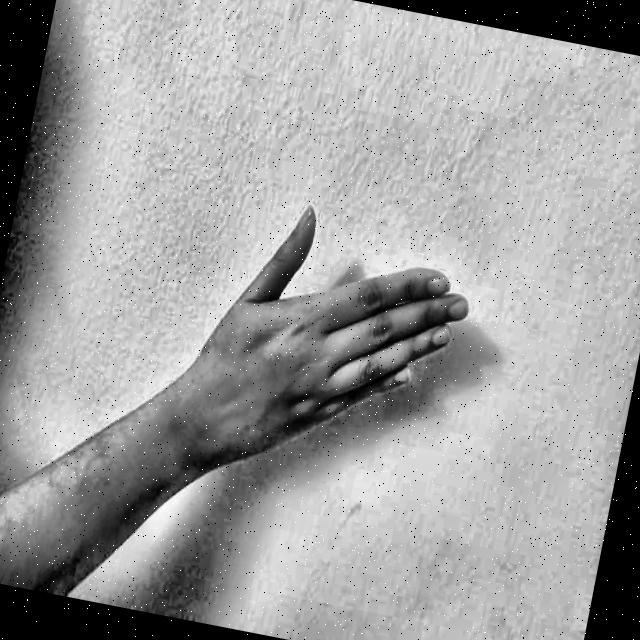Aa: (166, 192, 502, 528)
